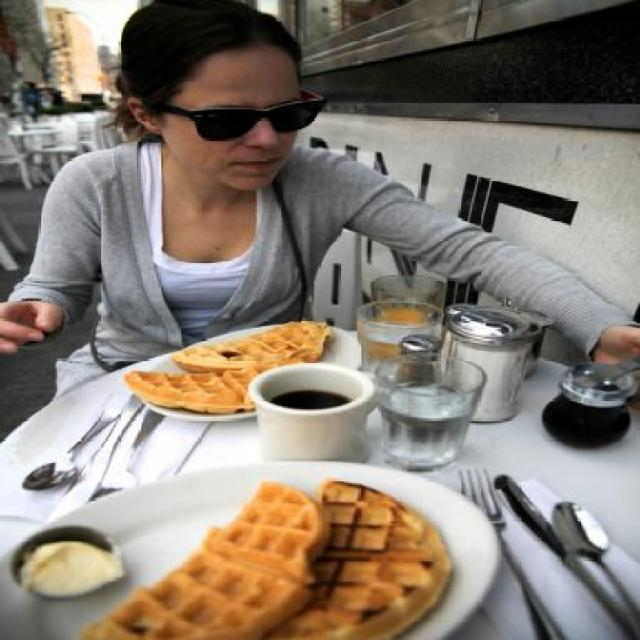Waffle: (71, 478, 331, 638), (85, 481, 336, 640), (268, 476, 456, 638), (268, 478, 454, 639), (120, 357, 306, 415), (168, 318, 337, 374), (169, 318, 340, 372)
